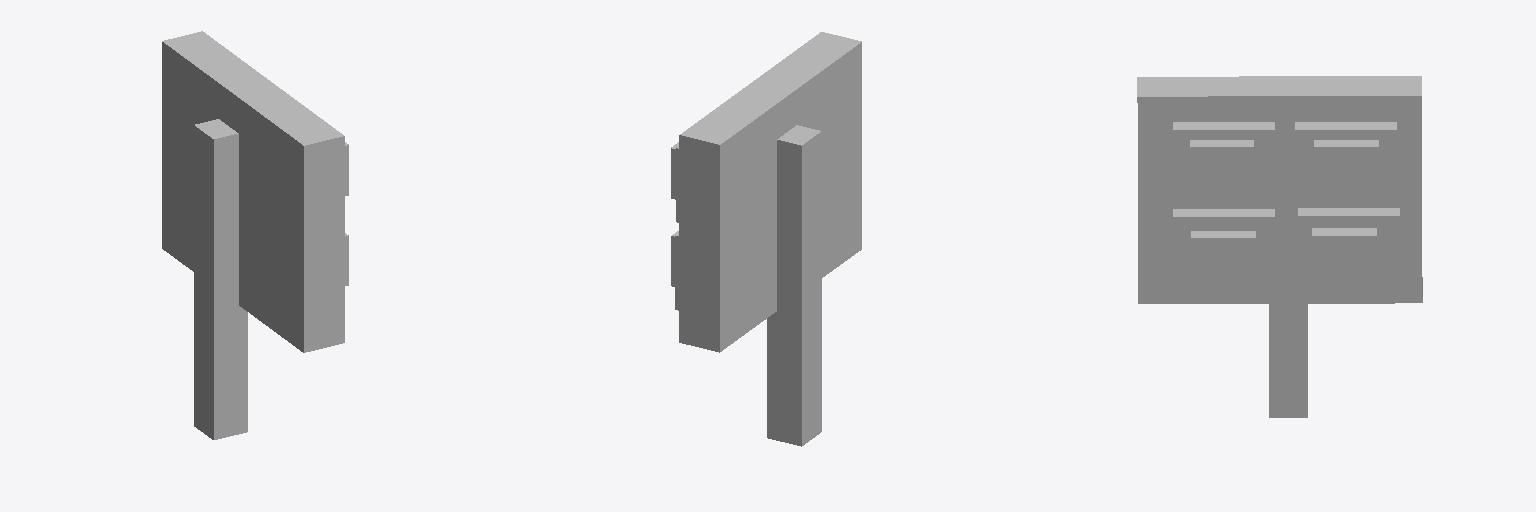
Rendered from lamp.obj.
3 views of the same model, side by side, from view 1: azimuth 30°, elevation 25°; view 2: azimuth 150°, elevation 25°; view 3: azimuth 270°, elevation 25° (orthographic).
Parts seen in each view (by area): view 1: Cube.2_Cube.001, Cube; view 2: Cube.2_Cube.001, Cube; view 3: Cube.2_Cube.001, Cube.005_Cube.018, Cube.003_Cube.016, Cube.004_Cube.017, Cube.006_Cube.019, Cube, Cube.008_Cube.021, Cube.012_Cube.025, Cube.009_Cube.022, Cube.011_Cube.024.
Part boxes in pixels (x1,y1,x2,y2): Cube.2_Cube.001: (162, 31, 344, 352); Cube: (194, 119, 247, 439); Cube.2_Cube.001: (679, 32, 861, 352); Cube: (767, 125, 821, 446); Cube.2_Cube.001: (1137, 76, 1422, 303); Cube.005_Cube.018: (1173, 209, 1274, 290); Cube.003_Cube.016: (1173, 122, 1274, 203); Cube.004_Cube.017: (1295, 122, 1396, 203); Cube.006_Cube.019: (1298, 208, 1399, 289); Cube: (1269, 304, 1307, 417); Cube.008_Cube.021: (1314, 140, 1378, 197); Cube.012_Cube.025: (1312, 228, 1376, 285); Cube.009_Cube.022: (1190, 140, 1253, 197); Cube.011_Cube.024: (1191, 231, 1255, 287).
Bounding box in the file's own units: 7.33 × 24.56 × 18.81.